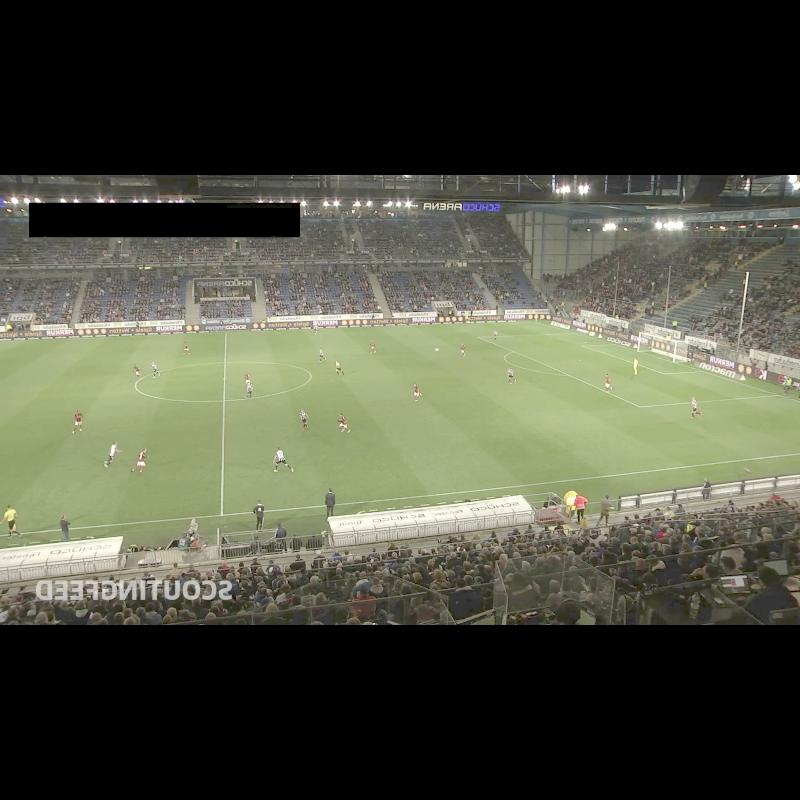cross_recipient_zone: (479, 333, 778, 407)
crossing_player_zone: (552, 396, 800, 471), (401, 322, 574, 340), (0, 340, 41, 355)
pitch: (0, 322, 800, 536)
